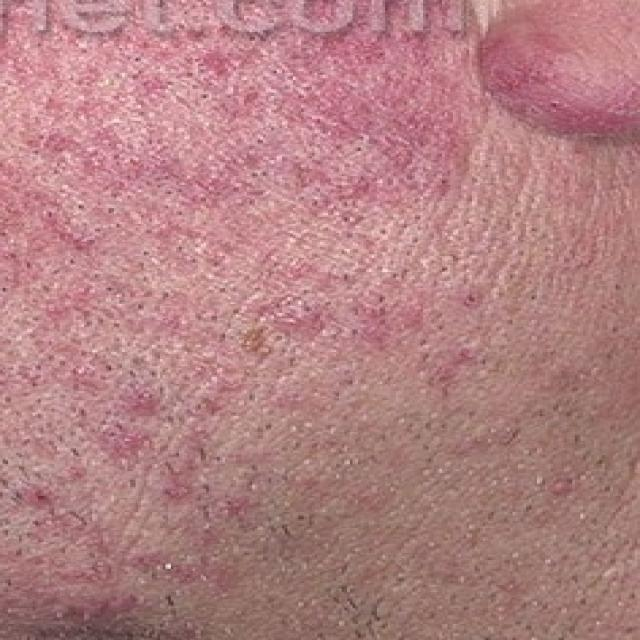Rosacea: (12, 34, 474, 254)
